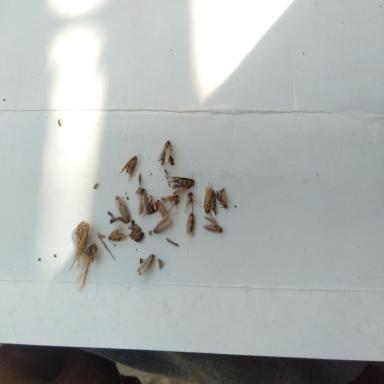pbw: (167, 175, 195, 195), (120, 154, 141, 180), (202, 212, 224, 234), (106, 222, 128, 242), (114, 195, 130, 222), (184, 191, 202, 214), (152, 214, 172, 234), (136, 254, 154, 276), (203, 180, 213, 214), (158, 140, 171, 165), (138, 188, 148, 215), (216, 187, 228, 209), (156, 200, 169, 220), (186, 212, 194, 238), (161, 194, 180, 204)
